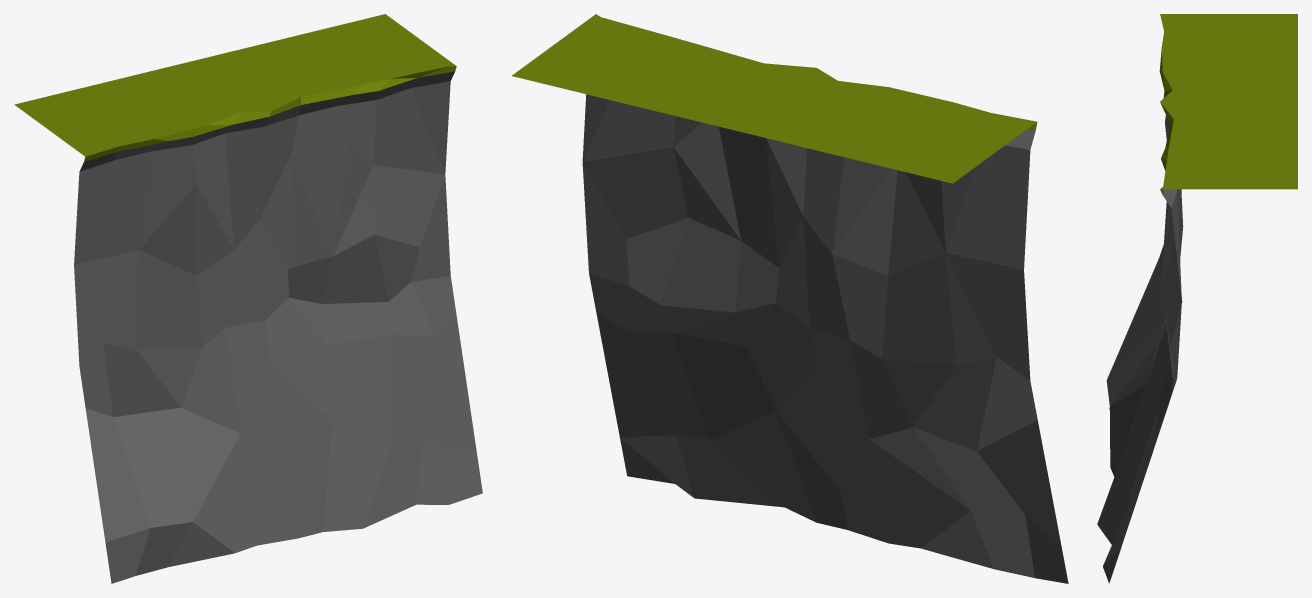
Rendered from mesh_cliff_4x1m.fbx.
3 renders of one model, left to right at view 1: azimuth 30°, elevation 25°; view 2: azimuth 150°, elevation 25°; view 3: azimuth 270°, elevation 25°, orthographic. The views are drawn at different scales.
Parts seen in each view (by area): view 1: mesh_cliff_4x1m; view 2: mesh_cliff_4x1m; view 3: mesh_cliff_4x1m.
Boxes of the visible parts, x1,y1,x2,y2 form: mesh_cliff_4x1m: (14,14,482,583); mesh_cliff_4x1m: (512,14,1068,583); mesh_cliff_4x1m: (1097,14,1297,583).
Bounding box in the file's own units: 400 × 420 × 194.
